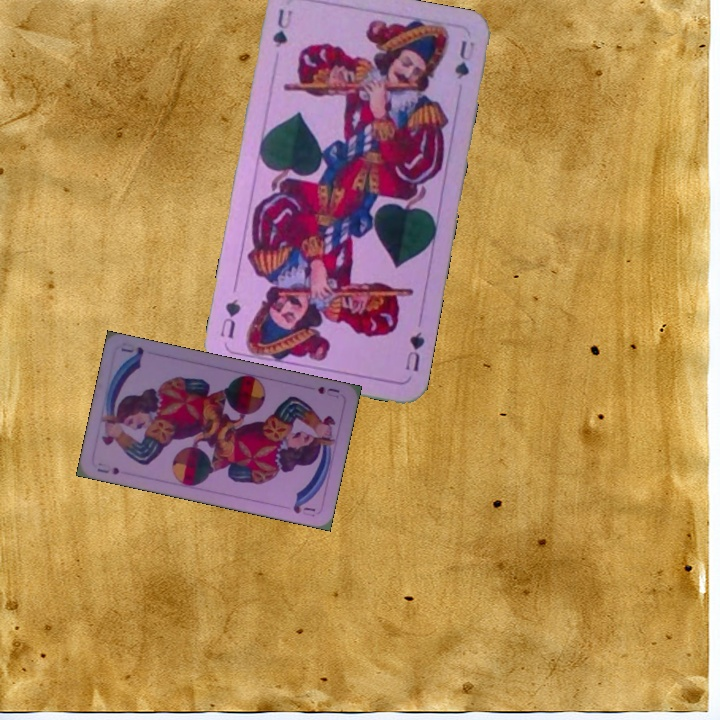GU: (401, 327, 427, 375), (268, 5, 295, 50)
SU: (313, 382, 342, 401), (93, 463, 122, 477)
